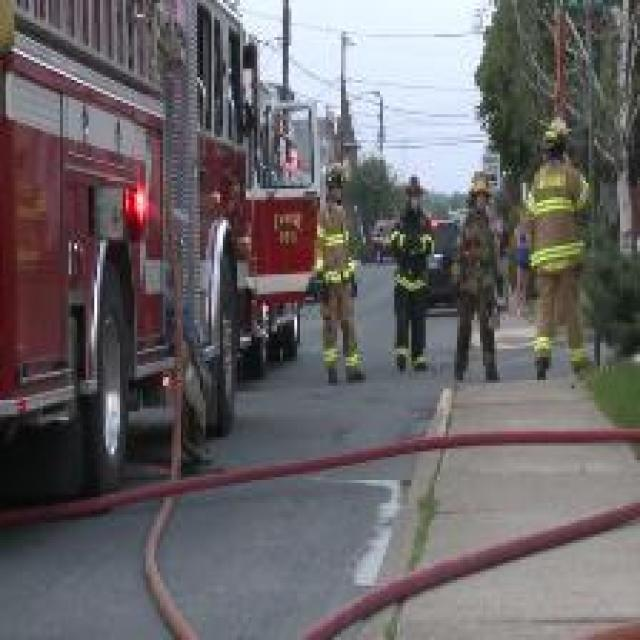other: (30, 122, 157, 326)
